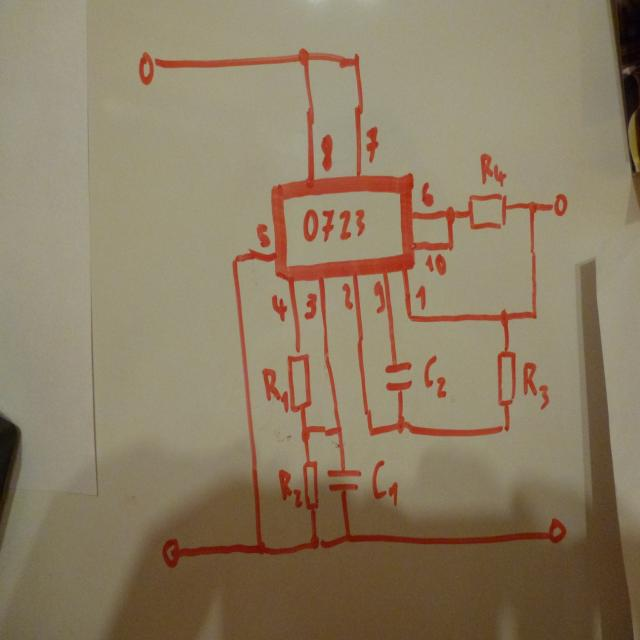capacitor: (325, 458, 362, 502), (382, 354, 417, 400)
junction: (306, 532, 324, 553), (295, 45, 312, 67), (496, 306, 512, 329), (393, 414, 407, 437), (443, 203, 457, 226), (349, 49, 364, 69), (252, 538, 267, 558), (526, 198, 539, 219), (299, 424, 312, 444), (498, 420, 513, 437), (364, 423, 378, 440), (341, 528, 354, 546), (229, 251, 241, 268), (528, 305, 540, 322), (332, 422, 345, 437), (445, 236, 456, 253), (403, 310, 415, 322)
resistor: (286, 345, 314, 415), (466, 191, 510, 234), (494, 345, 518, 409), (301, 456, 320, 512)
terminal: (137, 48, 165, 89), (158, 533, 187, 571), (545, 515, 568, 548), (550, 192, 570, 219)
text: (300, 204, 370, 246), (369, 456, 402, 511), (521, 358, 551, 410), (259, 365, 288, 415), (476, 148, 510, 190), (422, 352, 450, 400), (276, 466, 302, 509), (317, 131, 341, 173), (362, 124, 382, 165), (424, 252, 449, 277), (252, 218, 272, 249), (369, 279, 386, 315), (270, 292, 289, 324), (301, 289, 318, 321), (418, 176, 434, 208), (412, 281, 428, 312), (340, 279, 353, 312)
